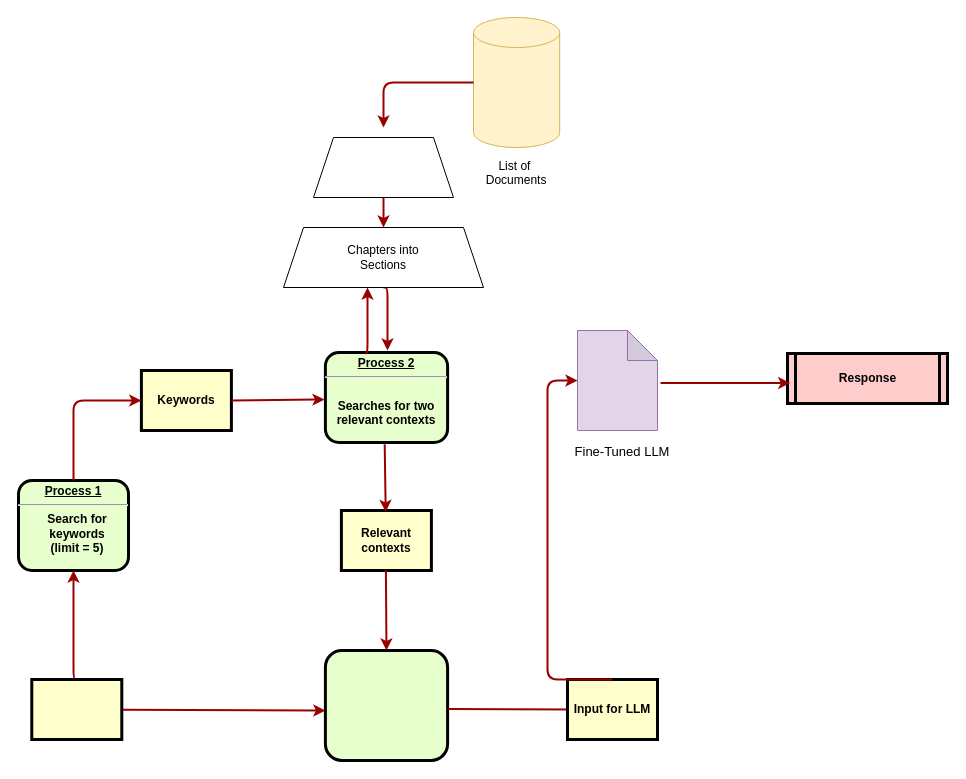
This 966x779 diagram has some shape labels left out. Each missing label, with the box of its shape:
Divided into chapters: (312, 136, 454, 198)
Process 3 Summarizing Contexts and Query: (323, 648, 449, 762)
User's Query: (30, 678, 123, 740)
